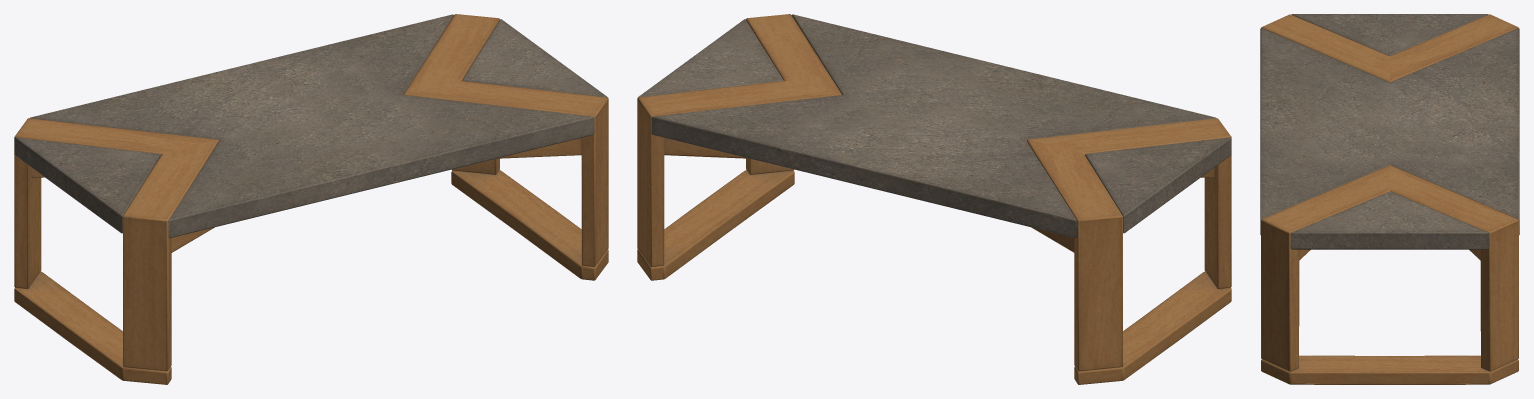
3 renders of one model, left to right at view 1: azimuth 30°, elevation 25°; view 2: azimuth 150°, elevation 25°; view 3: azimuth 270°, elevation 25°, orthographic. The views are drawn at different scales.
Visible parts, largest first — view 1: modern_coffee_table_01.001; view 2: modern_coffee_table_01.001; view 3: modern_coffee_table_01.001.
Boxes of the visible parts, x1,y1,x2,y2 form: modern_coffee_table_01.001: (14,14,608,384); modern_coffee_table_01.001: (637,14,1231,384); modern_coffee_table_01.001: (1260,14,1519,384).
Size of the model in its own units: 1.2 by 0.3903 by 0.6002.
1 material, 1 textured.
